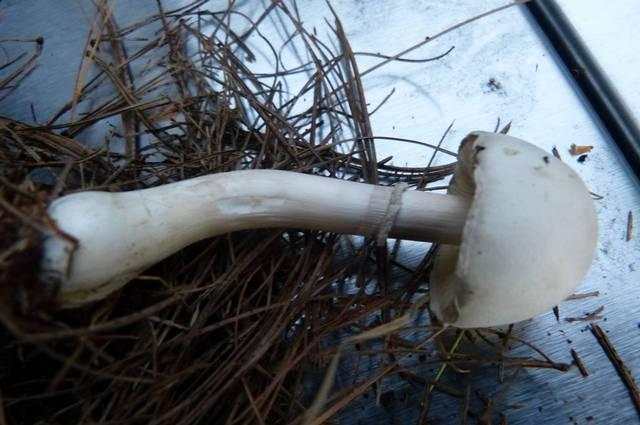poisonous_mushroom: (35, 128, 599, 330)
